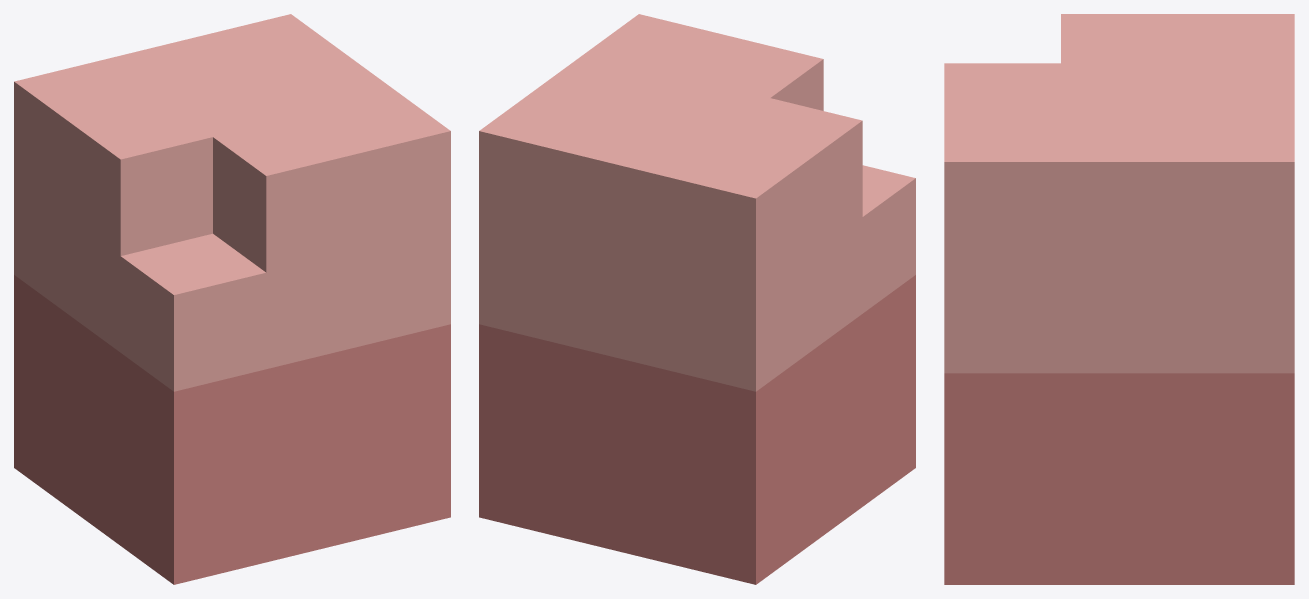
File: pig__leg_bl.glb
The picture shows the model from 3 angles, left to right: view 1: azimuth 30°, elevation 25°; view 2: azimuth 150°, elevation 25°; view 3: azimuth 270°, elevation 25°; orthographic projection. The views are drawn at different scales.
Parts seen in each view (by area): view 1: pig__leg_bl; view 2: pig__leg_bl; view 3: pig__leg_bl.
Boxes of the visible parts, x1,y1,x2,y2 form: pig__leg_bl: (14,14,450,584); pig__leg_bl: (479,14,915,584); pig__leg_bl: (944,14,1294,584).
Bounding box in the file's own units: 0.3 × 0.4 × 0.3.
Materials: 1 (1 with a texture image).
